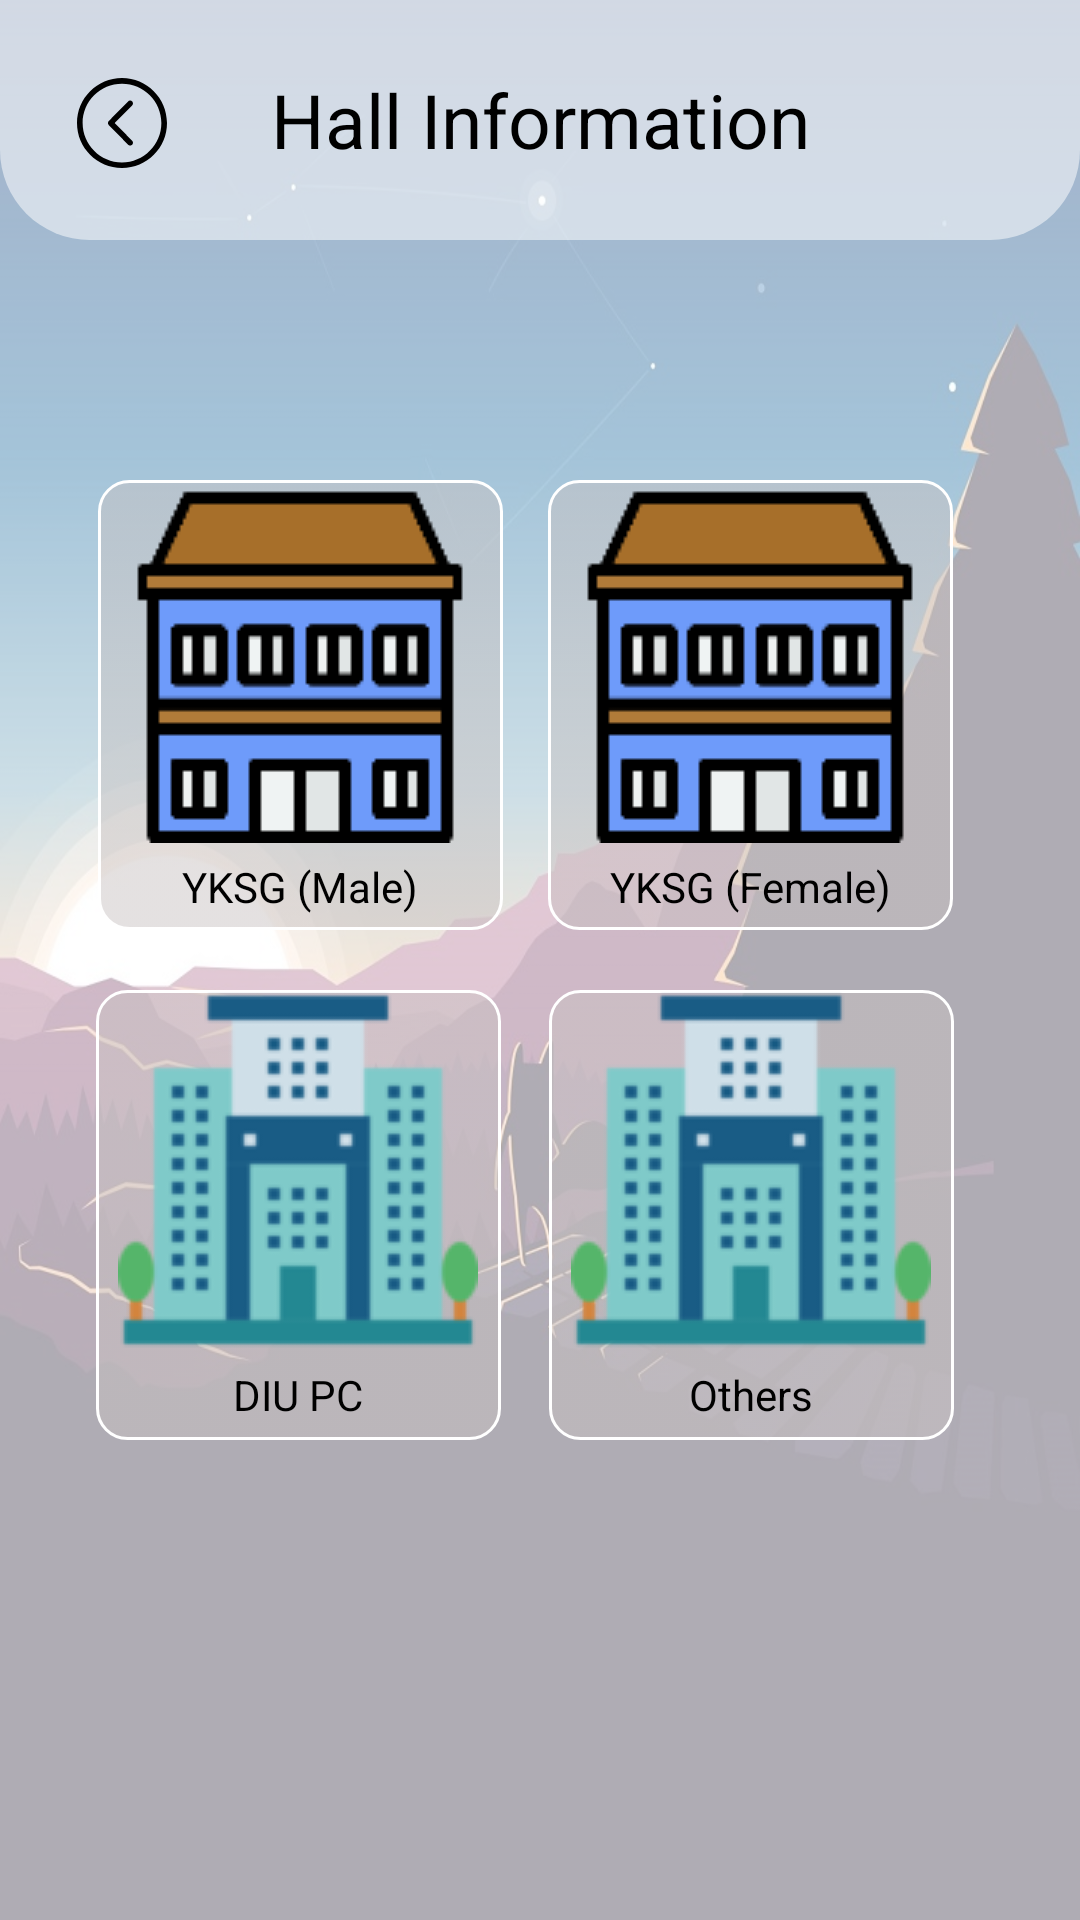

Named icons in this screenshot (1080*1920) and their centers, point (x, y):
backdx: point (122, 123)
